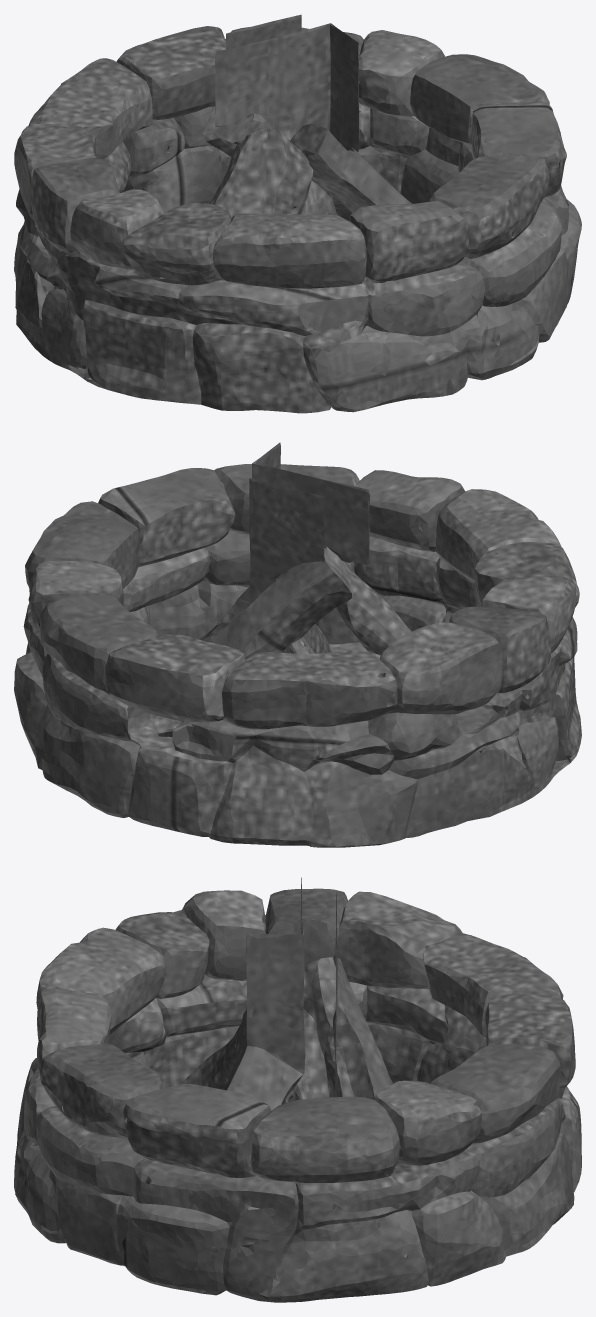
Rendered from uploads_files_6030951_untitled.obj.
The picture shows the model from 3 angles, top to bottom: view 1: azimuth 30°, elevation 25°; view 2: azimuth 150°, elevation 25°; view 3: azimuth 270°, elevation 25°; orthographic projection. The views are drawn at different scales.
Parts seen in each view (by area): view 1: geometry_0; view 2: geometry_0; view 3: geometry_0.
Part boxes in pixels (bbox=[...]): geometry_0: bbox=[14, 14, 581, 413]; geometry_0: bbox=[14, 442, 581, 847]; geometry_0: bbox=[14, 877, 581, 1302].
Size of the model in its own units: 0.9916 by 0.5276 by 0.9767.
